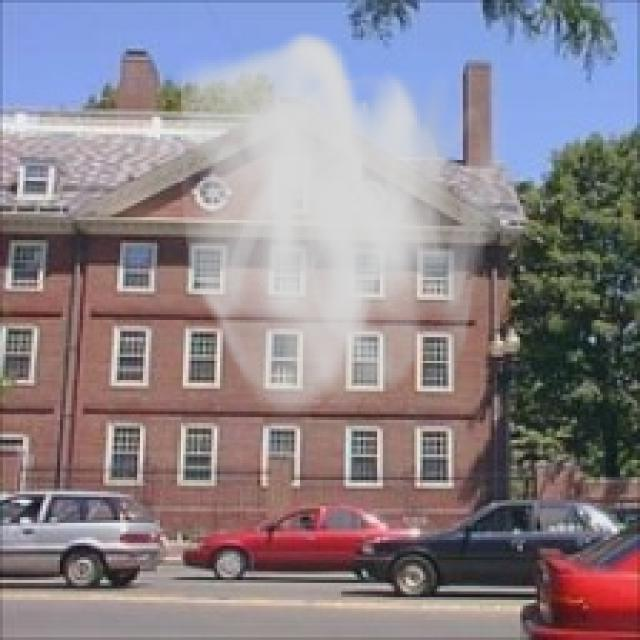smoke: (168, 29, 512, 428)
